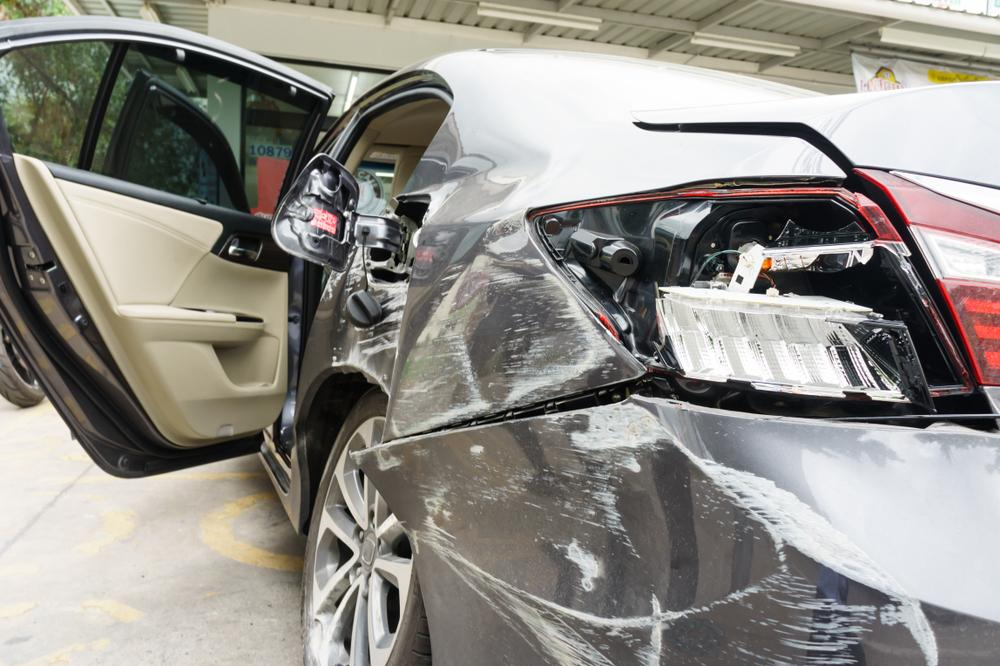lamp broken: (530, 180, 977, 409)
scratch: (411, 404, 947, 666), (394, 249, 627, 435)
